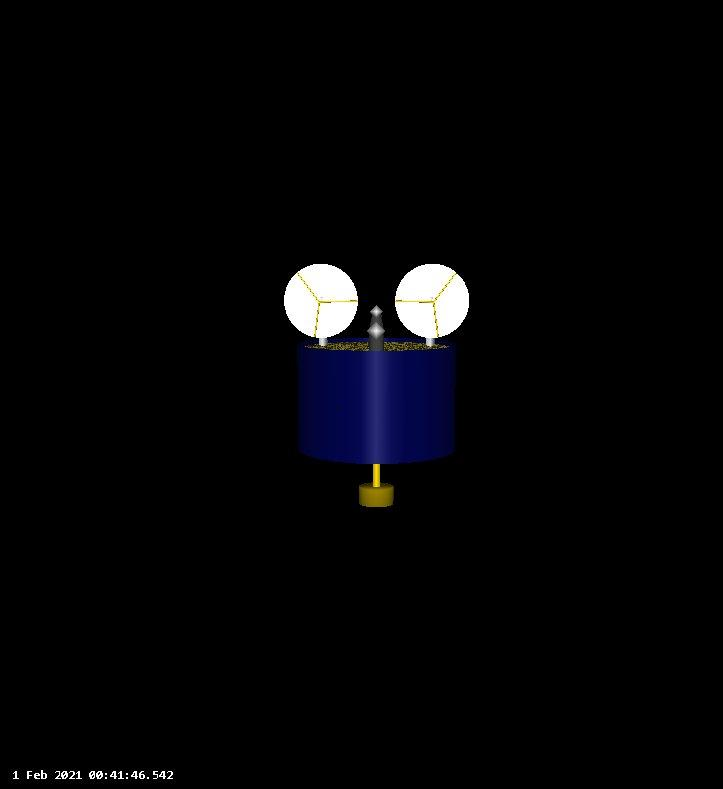antenna: (282, 261, 360, 340), (393, 263, 471, 340)
body: (294, 339, 460, 466)
